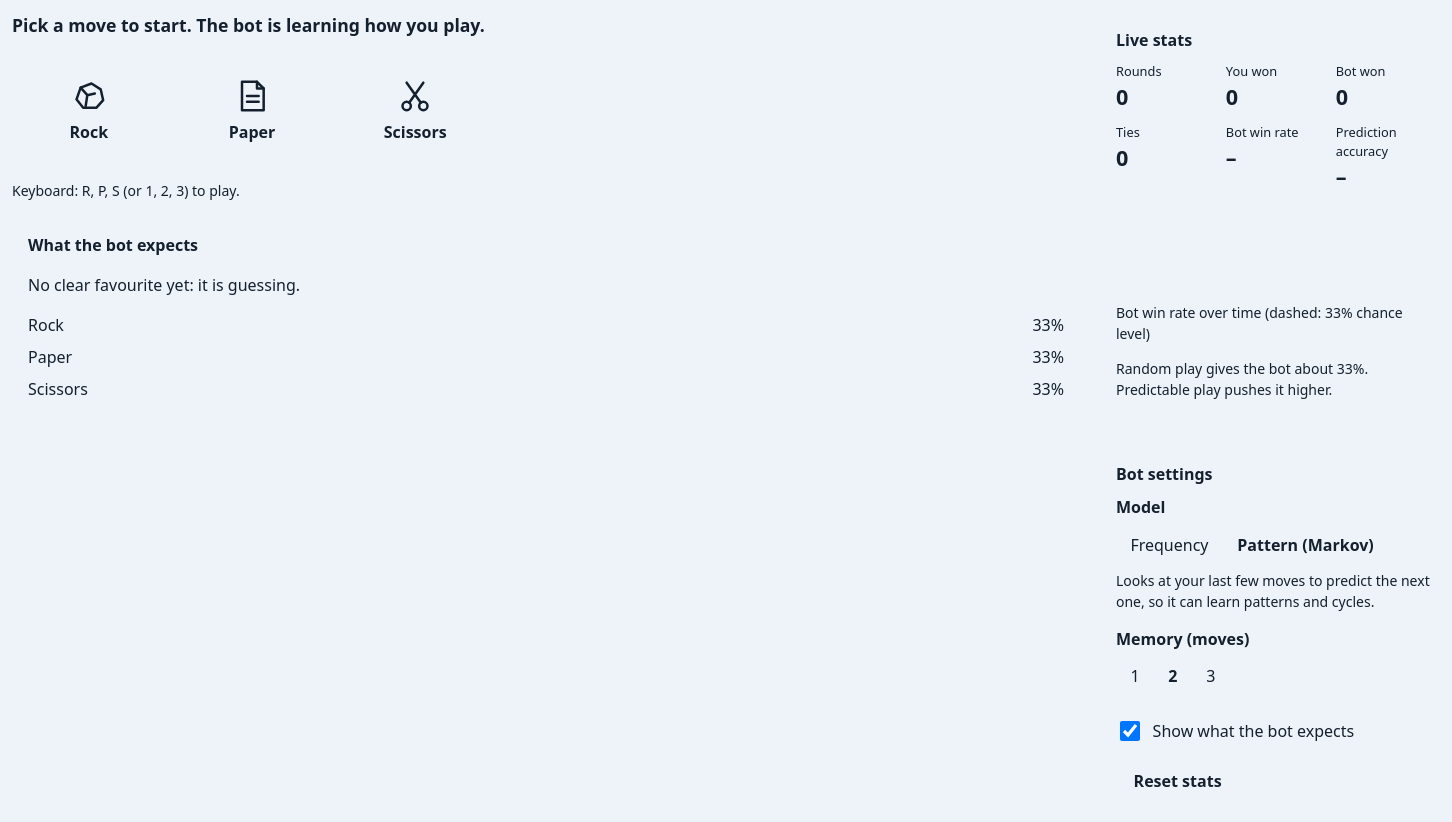
Test: rock-paper-scissors UI › plays a round on click and updates the stats
What coordinates should you click on to do the following:
click the button "Rock"
I would click on:
 (89, 110)
Its box is [12,66,166,154].
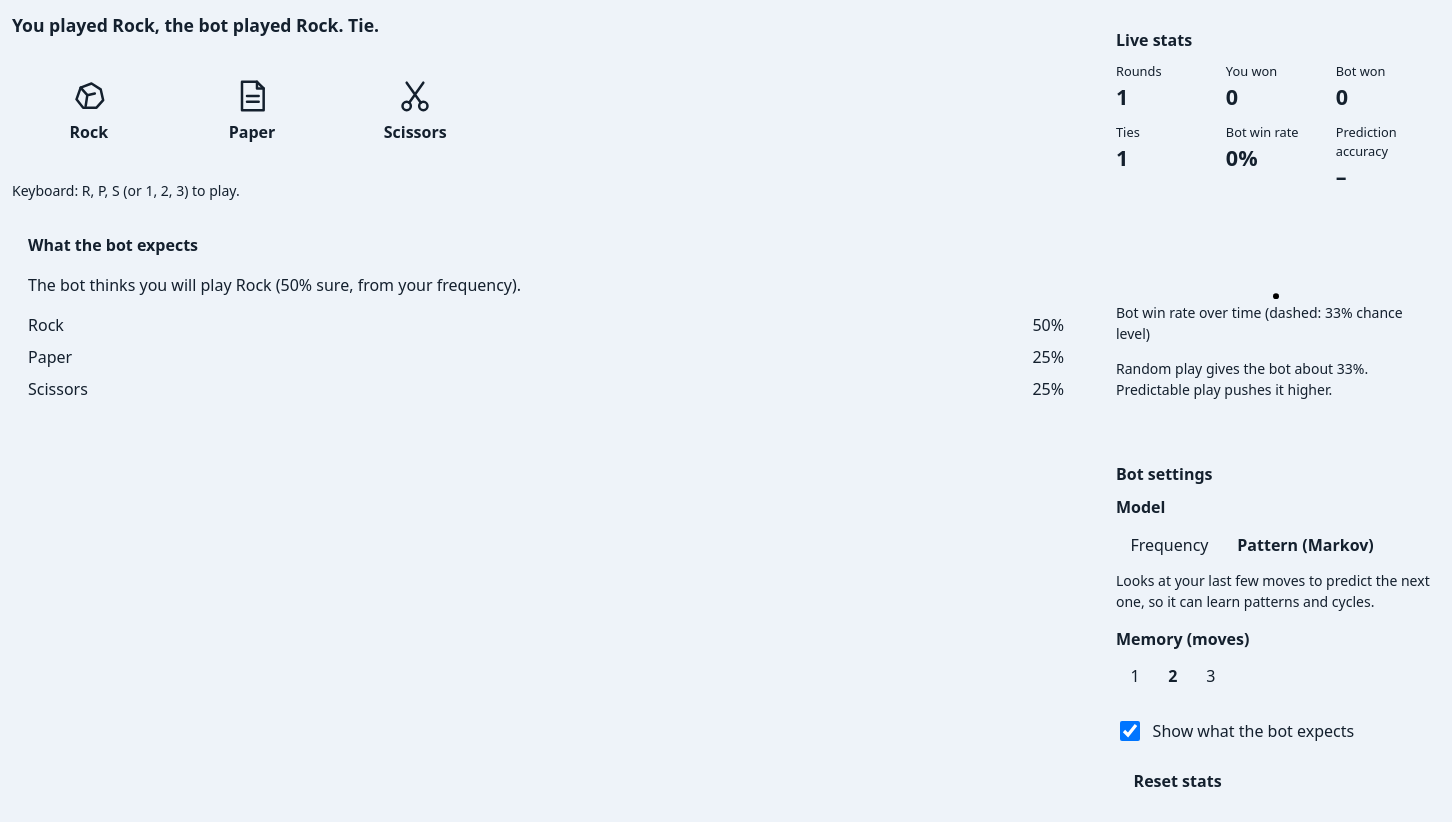
Now the message reads "You played Rock, the bot played Rock. Tie.", box [12,13,379,37]
